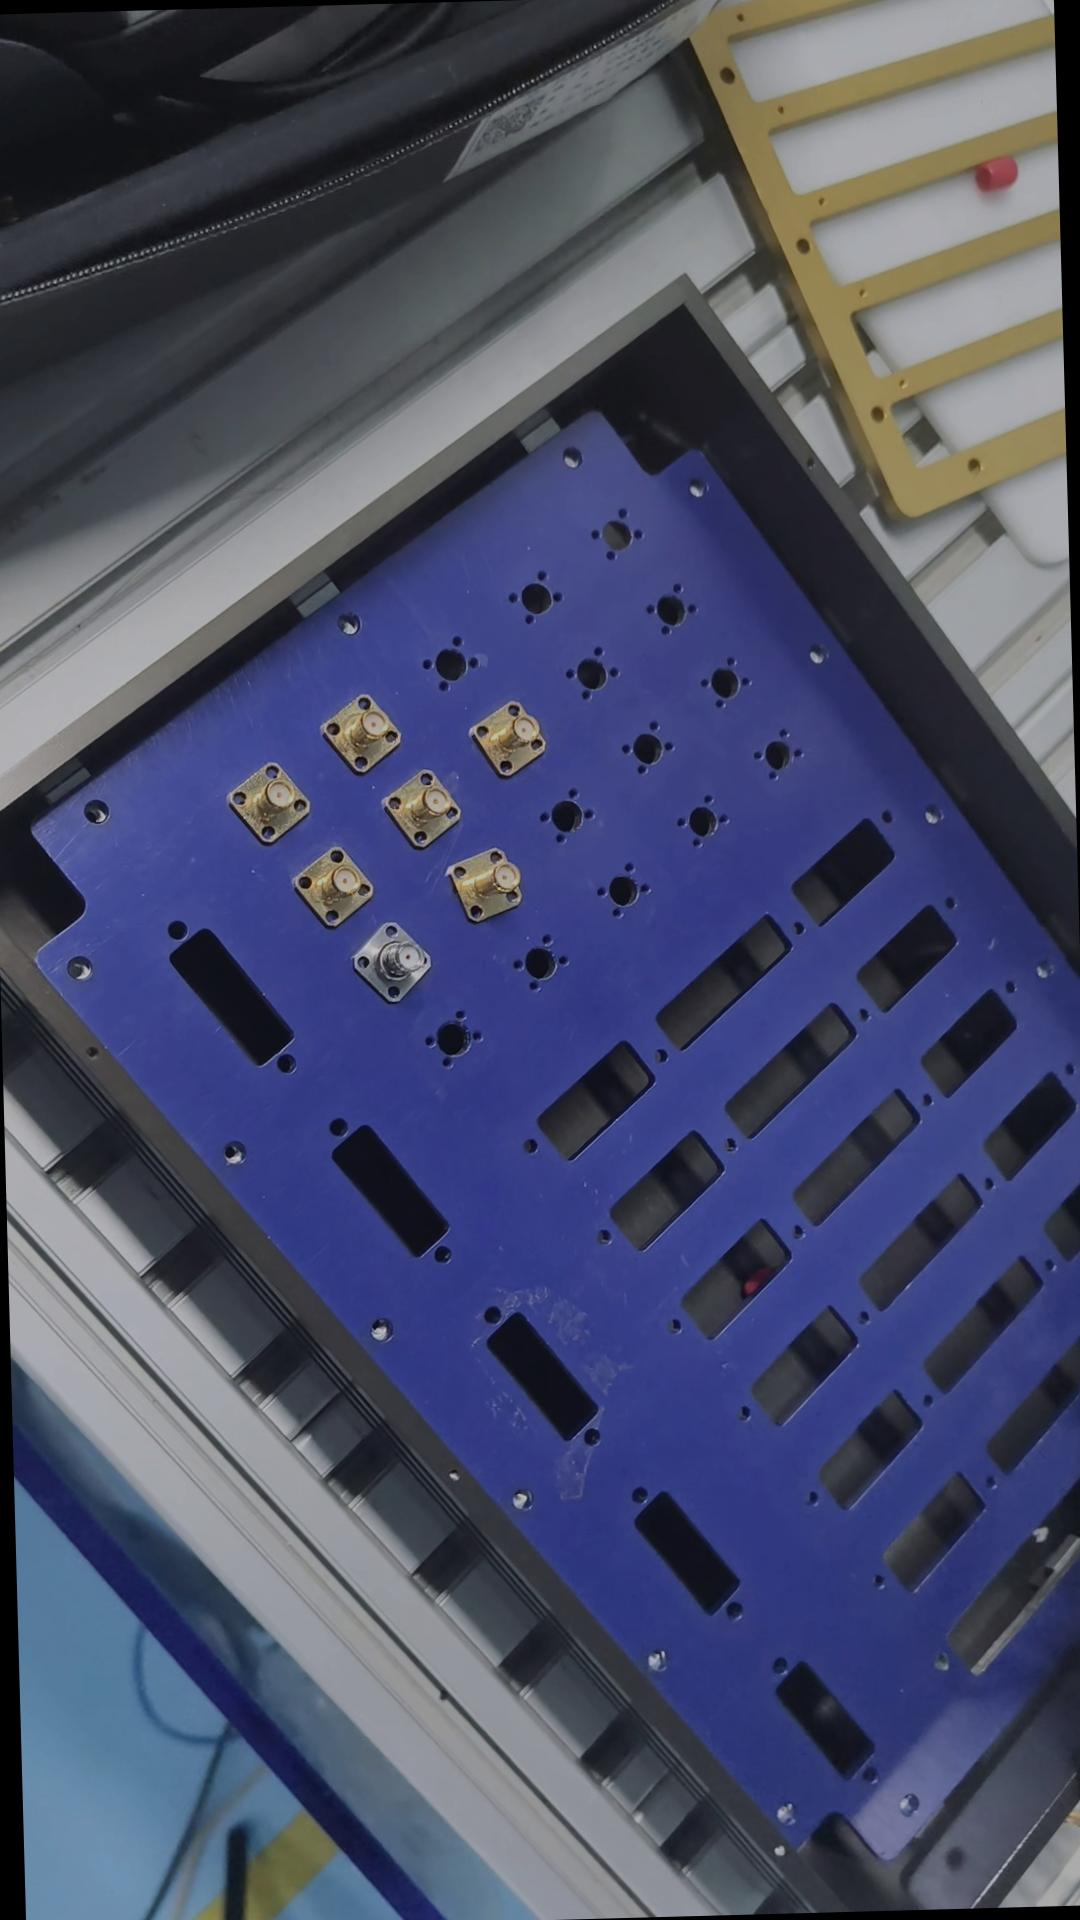SMA: (225, 756, 315, 847), (287, 840, 378, 924), (353, 914, 440, 1001), (473, 695, 556, 781), (320, 691, 407, 773), (385, 764, 465, 848), (451, 847, 527, 924)
